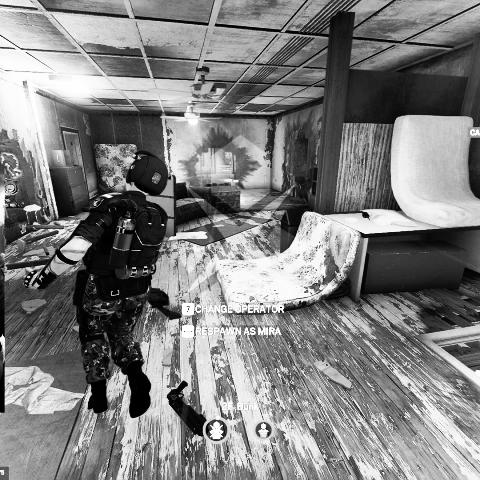Character: (23, 148, 171, 418)
Head: (125, 150, 169, 198)
